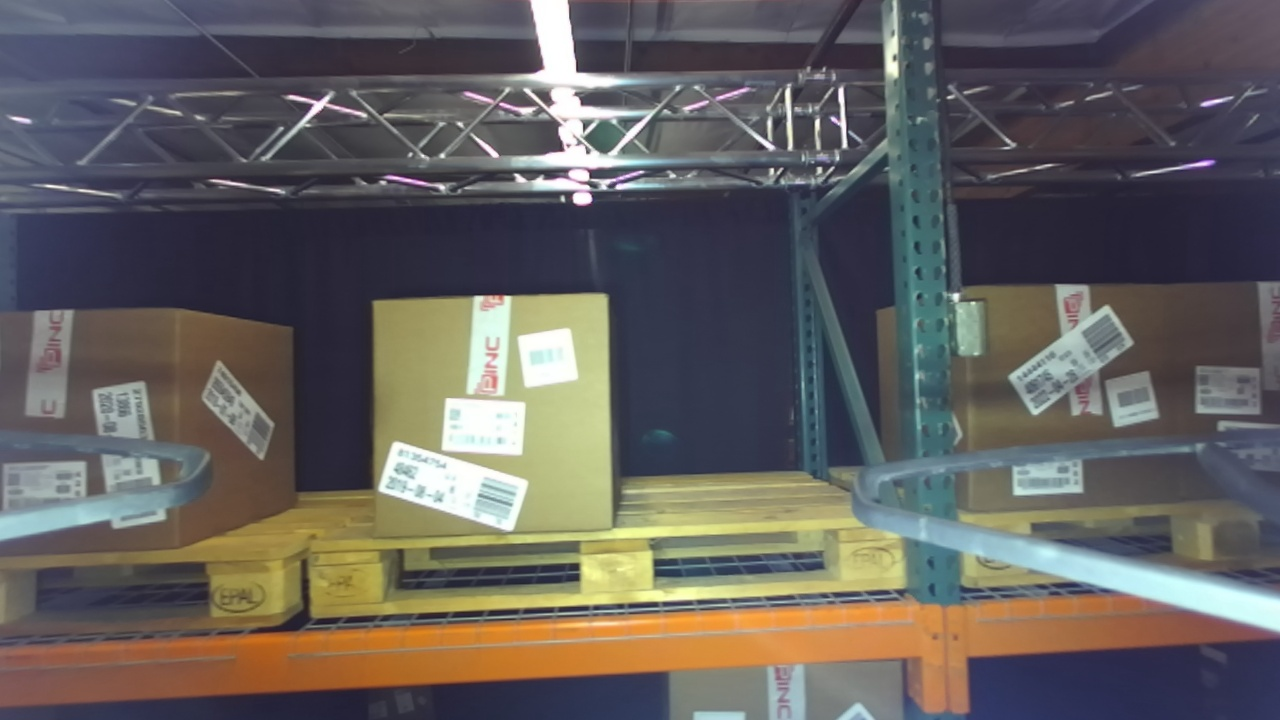box: (357, 272, 630, 567), (946, 259, 1207, 518), (1, 286, 199, 582)
